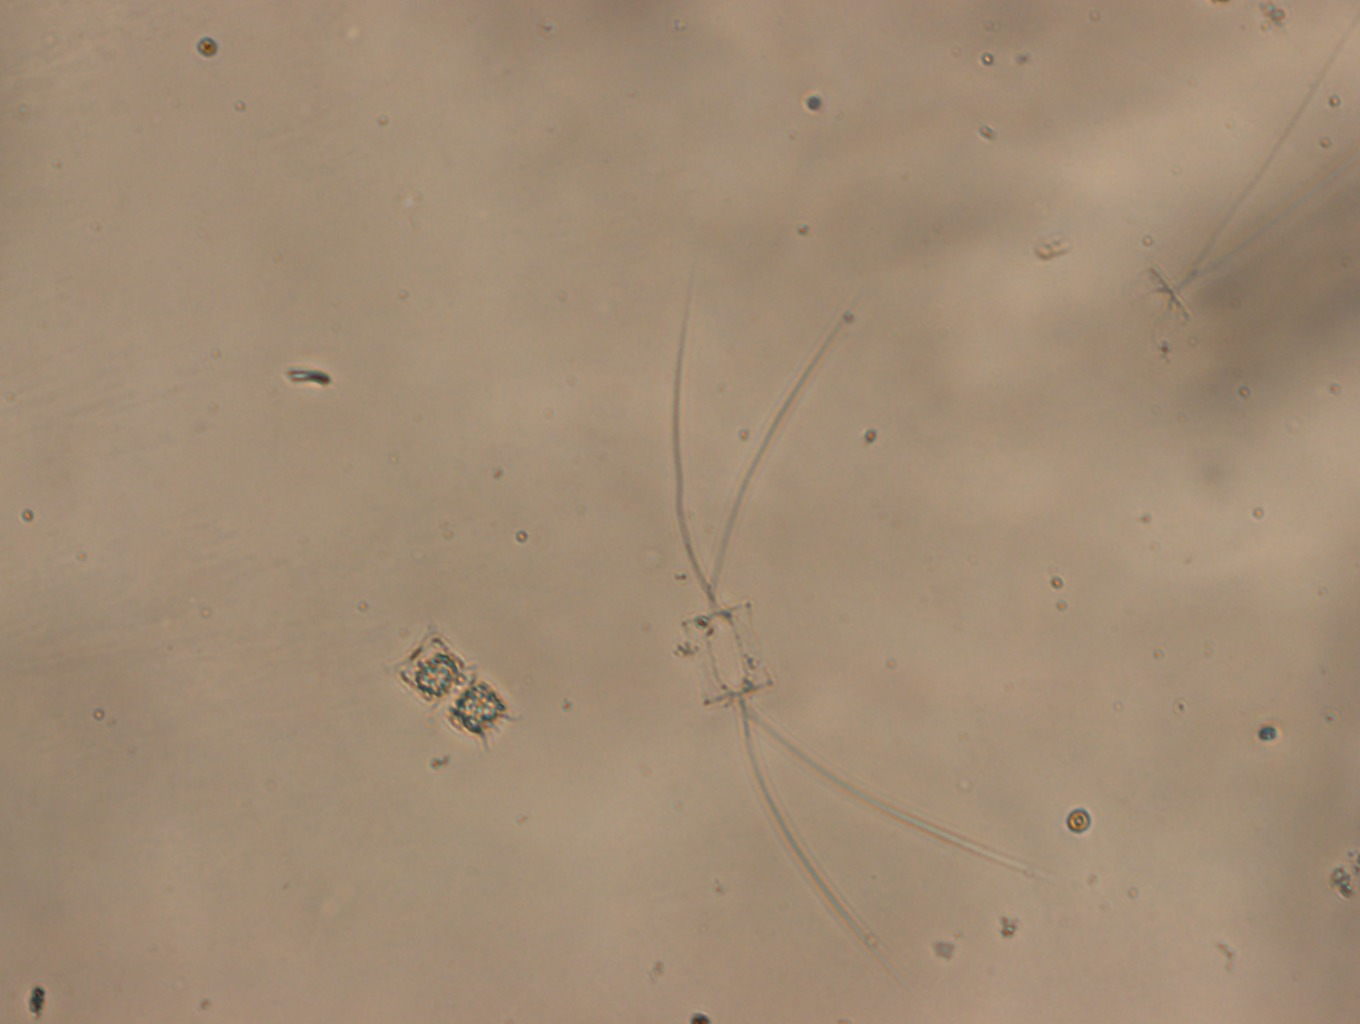chaetoceros: (671, 268, 1053, 977)
